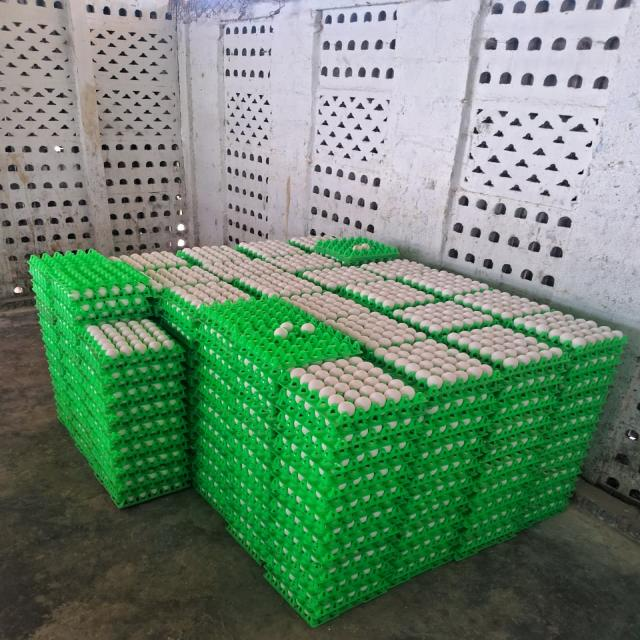egg_tray: (49, 308, 187, 506), (279, 356, 423, 491), (54, 347, 186, 478), (276, 378, 414, 492), (273, 460, 401, 582), (266, 507, 389, 624), (266, 496, 396, 603), (274, 442, 399, 544), (267, 495, 395, 593), (268, 504, 395, 602), (267, 503, 389, 604), (53, 363, 185, 456), (275, 382, 423, 464), (265, 527, 390, 624), (203, 297, 359, 370), (66, 415, 189, 507), (65, 416, 189, 507), (75, 323, 185, 422), (446, 325, 564, 416), (74, 391, 188, 479), (265, 544, 387, 626), (194, 426, 268, 561), (514, 311, 625, 400), (331, 439, 410, 562), (272, 454, 403, 528), (514, 311, 625, 398), (273, 436, 411, 504), (50, 319, 185, 388), (285, 356, 423, 422), (194, 441, 270, 558), (279, 458, 406, 528), (192, 323, 283, 420), (194, 408, 270, 522), (194, 404, 266, 522), (335, 439, 414, 546), (470, 413, 549, 520), (468, 450, 572, 531), (288, 292, 426, 352), (411, 390, 489, 492), (65, 362, 185, 428), (374, 338, 497, 401), (196, 364, 277, 459), (148, 266, 247, 342), (194, 422, 267, 524), (461, 451, 537, 548), (193, 389, 273, 481), (76, 319, 185, 386), (29, 250, 145, 312), (194, 389, 274, 478), (462, 450, 541, 540), (403, 430, 483, 518), (271, 568, 389, 626), (30, 250, 147, 308), (463, 450, 540, 538), (457, 456, 529, 548), (191, 341, 279, 416), (469, 466, 572, 530), (402, 430, 478, 516), (192, 343, 280, 416), (193, 326, 284, 396), (157, 274, 250, 342), (408, 430, 483, 514), (51, 260, 150, 322), (465, 450, 543, 527), (395, 494, 463, 581), (193, 332, 282, 398), (465, 453, 538, 532), (229, 456, 279, 570), (390, 509, 461, 586), (93, 432, 189, 488), (446, 324, 562, 370), (227, 445, 272, 562), (514, 309, 625, 355), (362, 259, 489, 299), (192, 414, 239, 521), (51, 254, 147, 302), (86, 320, 181, 368), (390, 522, 459, 588), (326, 306, 426, 351), (464, 466, 535, 528), (393, 294, 495, 337), (403, 460, 473, 522), (191, 305, 247, 382), (52, 254, 145, 300), (273, 314, 360, 362), (477, 428, 543, 491), (97, 464, 190, 508), (469, 454, 545, 506), (389, 530, 457, 587), (537, 413, 597, 476), (413, 398, 490, 447), (389, 532, 457, 587), (220, 260, 321, 297), (402, 467, 473, 519), (403, 466, 473, 518), (54, 286, 150, 323), (454, 290, 549, 327), (397, 505, 463, 558), (226, 494, 272, 564), (339, 280, 434, 313), (227, 492, 271, 563), (483, 414, 548, 462), (469, 456, 539, 500), (202, 252, 277, 293), (465, 470, 533, 515), (395, 267, 487, 300), (166, 276, 250, 312), (45, 318, 105, 368), (238, 262, 321, 298), (461, 505, 523, 550), (400, 268, 488, 299), (107, 414, 187, 448), (35, 294, 77, 357), (219, 507, 266, 563), (454, 519, 518, 560), (561, 356, 619, 401), (177, 247, 251, 282), (287, 291, 369, 322), (35, 294, 82, 348), (539, 412, 597, 455), (496, 364, 563, 401), (35, 292, 77, 350), (493, 382, 557, 420), (232, 400, 279, 451), (313, 236, 398, 264), (485, 412, 553, 446), (46, 330, 85, 388), (39, 308, 79, 364), (518, 488, 572, 529), (514, 490, 569, 530), (227, 514, 270, 564), (39, 309, 81, 359), (303, 266, 383, 292), (527, 462, 580, 501), (42, 316, 83, 365), (145, 265, 219, 292), (478, 449, 541, 480), (537, 424, 596, 456), (515, 494, 567, 530), (516, 494, 568, 530), (560, 366, 615, 398), (201, 252, 253, 285), (34, 290, 61, 352), (39, 310, 71, 362), (35, 294, 61, 357), (360, 258, 430, 281), (533, 447, 587, 476), (201, 252, 253, 282), (111, 251, 187, 271), (30, 266, 54, 329), (266, 253, 340, 273), (531, 462, 580, 492), (343, 434, 406, 457), (177, 246, 249, 266), (280, 450, 315, 490), (555, 390, 606, 417), (314, 236, 378, 257), (237, 240, 305, 258), (29, 254, 55, 300), (278, 459, 315, 491), (332, 476, 375, 502), (201, 250, 253, 269), (307, 558, 341, 580), (281, 462, 308, 485), (494, 411, 541, 424), (230, 447, 259, 468), (289, 236, 319, 252), (222, 247, 252, 263), (416, 438, 439, 450), (376, 373, 394, 388), (457, 452, 472, 468), (161, 450, 185, 460), (189, 452, 195, 485), (287, 539, 299, 554), (531, 446, 543, 460), (335, 480, 349, 492), (461, 430, 477, 440), (346, 490, 359, 502), (232, 456, 247, 466), (483, 459, 503, 466), (212, 428, 223, 440), (449, 452, 465, 460), (495, 456, 510, 464), (227, 468, 241, 476), (522, 416, 536, 424), (257, 358, 268, 368), (352, 504, 366, 511), (389, 548, 397, 559), (61, 314, 72, 322), (137, 402, 144, 414), (57, 286, 67, 294), (285, 478, 295, 486), (251, 470, 262, 477), (229, 476, 237, 485), (264, 467, 270, 479), (386, 448, 392, 460), (256, 525, 264, 534), (417, 456, 425, 465), (233, 480, 241, 489), (230, 476, 237, 486), (349, 493, 359, 500), (487, 478, 498, 484), (365, 593, 378, 598), (367, 366, 375, 374), (378, 386, 387, 393), (485, 428, 491, 438), (99, 324, 111, 329), (278, 323, 287, 329), (359, 400, 368, 406), (442, 438, 455, 442), (339, 496, 344, 506), (95, 367, 102, 374), (442, 506, 449, 513), (599, 356, 615, 359), (387, 478, 393, 486), (331, 512, 339, 518), (373, 545, 382, 550), (339, 558, 350, 562), (358, 536, 365, 542), (316, 487, 322, 494), (396, 383, 402, 390), (468, 432, 475, 438), (231, 409, 239, 414), (185, 248, 195, 252), (306, 452, 312, 458), (235, 482, 241, 488), (249, 396, 255, 402), (385, 403, 391, 409), (309, 363, 321, 366), (285, 572, 297, 575), (87, 337, 94, 342), (335, 382, 346, 385), (97, 366, 101, 374), (459, 472, 467, 476), (67, 372, 73, 377), (380, 455, 385, 461), (102, 323, 112, 326), (213, 246, 223, 249), (362, 513, 369, 517), (457, 520, 461, 527), (54, 269, 63, 272), (400, 461, 405, 466), (256, 406, 261, 411), (377, 452, 381, 458), (432, 512, 438, 516), (314, 378, 322, 381), (305, 468, 309, 474), (318, 486, 322, 492), (503, 456, 509, 460), (252, 447, 256, 452), (371, 432, 376, 436), (300, 490, 305, 494), (372, 472, 377, 476), (128, 288, 132, 293), (345, 544, 349, 549), (400, 444, 405, 448), (342, 374, 346, 379), (501, 424, 506, 428), (416, 536, 421, 540), (474, 397, 479, 401), (363, 514, 368, 518), (344, 563, 350, 566), (269, 455, 272, 461), (220, 468, 223, 474), (245, 477, 248, 483), (501, 418, 509, 420), (271, 374, 275, 378), (247, 548, 251, 552), (183, 437, 185, 445), (163, 436, 167, 440), (317, 376, 321, 380), (291, 486, 295, 490), (112, 287, 117, 290), (570, 458, 575, 461), (267, 576, 270, 581), (345, 500, 350, 503), (52, 371, 54, 378), (346, 562, 350, 565), (237, 302, 243, 304), (182, 418, 184, 424), (65, 362, 68, 366), (387, 562, 389, 568), (338, 562, 341, 566), (210, 247, 222, 248), (425, 452, 431, 454), (317, 507, 321, 510), (413, 396, 417, 399), (305, 374, 311, 376), (459, 521, 463, 524), (78, 372, 83, 374), (121, 451, 126, 453), (265, 574, 267, 579), (367, 550, 372, 552), (385, 450, 390, 452), (434, 528, 439, 530), (379, 374, 384, 376), (311, 365, 321, 366), (439, 466, 442, 469), (238, 460, 240, 464), (361, 540, 363, 544), (225, 416, 227, 420), (355, 573, 359, 575), (182, 427, 184, 431), (299, 510, 303, 512), (340, 496, 342, 500), (341, 374, 345, 376), (270, 562, 272, 566), (481, 447, 483, 451), (491, 451, 495, 453), (205, 496, 208, 498), (362, 458, 364, 461), (383, 425, 385, 428), (240, 367, 242, 370), (243, 482, 245, 485), (140, 443, 143, 445), (385, 546, 387, 549), (341, 400, 347, 401), (370, 375, 373, 377), (303, 590, 306, 592), (443, 407, 445, 410), (314, 513, 317, 515), (265, 469, 267, 471), (56, 300, 58, 302), (456, 518, 458, 520), (124, 469, 126, 471), (126, 370, 128, 372), (535, 447, 539, 448), (259, 366, 261, 368), (105, 344, 107, 346), (385, 572, 387, 574), (378, 564, 379, 568), (47, 352, 48, 356), (352, 394, 354, 396), (434, 540, 436, 542), (303, 374, 305, 376), (291, 482, 293, 484), (121, 447, 125, 448), (52, 373, 53, 376), (251, 553, 254, 554), (354, 378, 357, 379), (490, 542, 493, 543), (320, 436, 322, 437), (331, 549, 333, 550), (451, 456, 452, 458), (349, 523, 350, 525), (360, 475, 361, 477), (356, 434, 357, 436), (267, 576, 268, 578), (414, 502, 415, 504), (245, 546, 246, 548), (78, 300, 80, 301), (294, 604, 295, 606), (292, 602, 293, 604), (374, 386, 375, 388), (346, 365, 348, 366), (481, 446, 483, 447), (54, 380, 55, 382), (491, 542, 492, 543), (69, 329, 70, 330), (49, 367, 50, 368), (231, 481, 232, 481), (338, 563, 339, 563), (282, 559, 283, 559), (358, 545, 359, 545), (397, 485, 398, 485), (367, 279, 368, 279), (266, 448, 267, 448), (474, 419, 475, 419), (294, 556, 295, 556), (449, 512, 451, 512), (74, 328, 75, 328), (486, 399, 488, 399), (166, 368, 167, 368), (163, 363, 166, 363), (511, 456, 514, 456), (511, 418, 515, 418), (599, 363, 599, 363), (269, 372, 270, 372), (369, 512, 370, 512), (232, 534, 233, 534), (182, 424, 182, 427), (172, 416, 173, 416), (133, 294, 135, 294), (41, 319, 41, 323), (441, 466, 443, 466), (241, 477, 241, 478), (391, 534, 392, 534), (483, 483, 483, 483), (154, 421, 156, 421), (182, 419, 183, 419), (283, 441, 285, 441), (303, 394, 303, 394), (349, 388, 351, 388), (368, 376, 372, 376), (304, 374, 306, 374), (525, 452, 525, 452), (532, 427, 533, 427), (443, 559, 446, 559), (461, 472, 463, 472), (261, 450, 261, 453), (456, 494, 457, 494), (345, 541, 347, 541), (318, 514, 319, 514), (425, 450, 425, 450), (84, 310, 85, 310), (334, 601, 335, 601), (395, 583, 396, 583), (185, 470, 185, 470), (100, 410, 101, 410), (457, 558, 459, 558), (462, 556, 463, 556), (283, 461, 283, 462), (339, 499, 339, 499), (315, 466, 317, 466), (481, 467, 481, 467)
